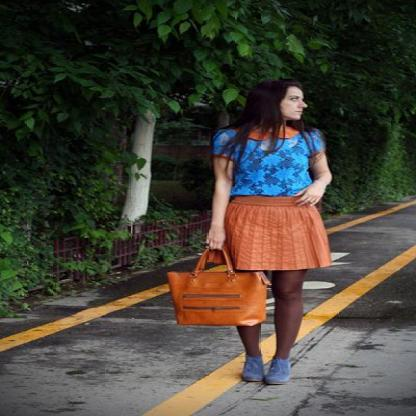bag: (166, 246, 274, 325)
shirt: (212, 129, 325, 205)
shoe: (238, 358, 298, 387)
skirt: (220, 192, 336, 284)
